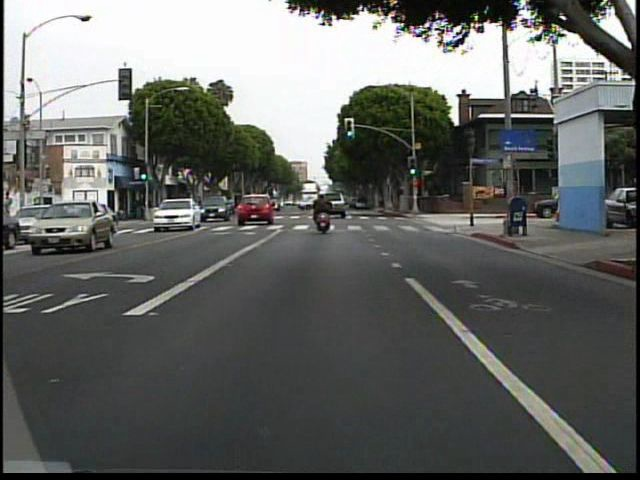person: (310, 185, 341, 244)
